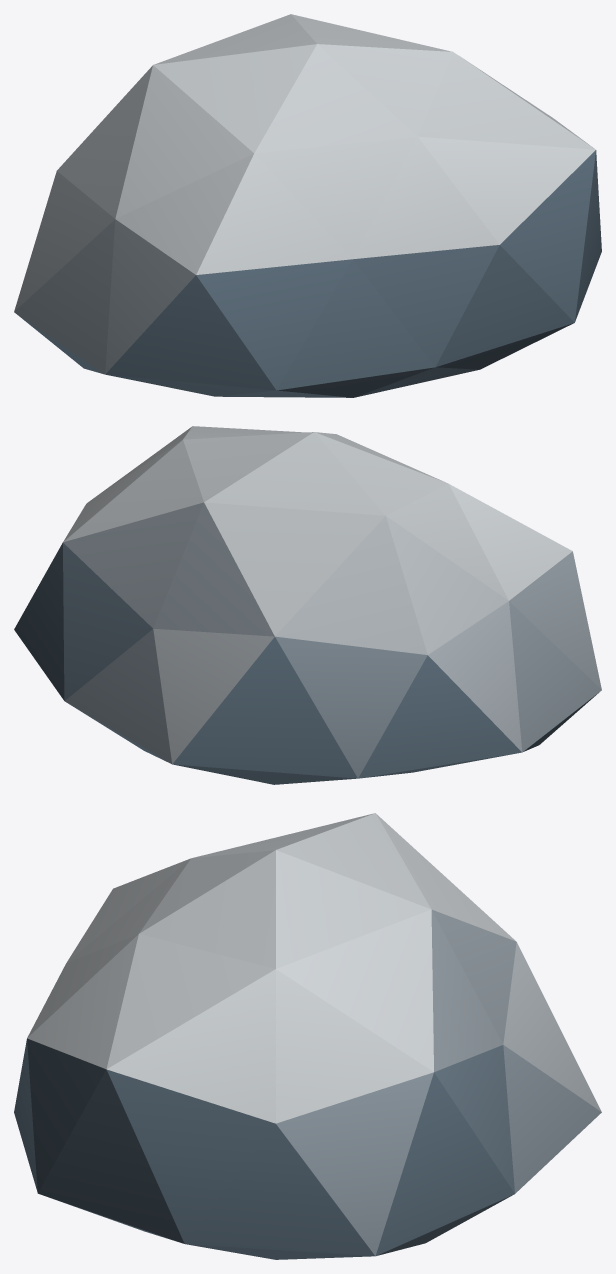
The model's file is ice_rock_b.glb.
3 views of the same model, one above another, from view 1: azimuth 30°, elevation 25°; view 2: azimuth 150°, elevation 25°; view 3: azimuth 270°, elevation 25° (orthographic). The views are drawn at different scales.
Parts seen in each view (by area): view 1: ice_rock_b; view 2: ice_rock_b; view 3: ice_rock_b.
Boxes of the visible parts, box(x1,y1,x2,y2) form: ice_rock_b: box(14, 14, 601, 397); ice_rock_b: box(14, 426, 601, 784); ice_rock_b: box(14, 813, 601, 1259).
Size of the model in its own units: 1.9 by 0.9216 by 1.66.
